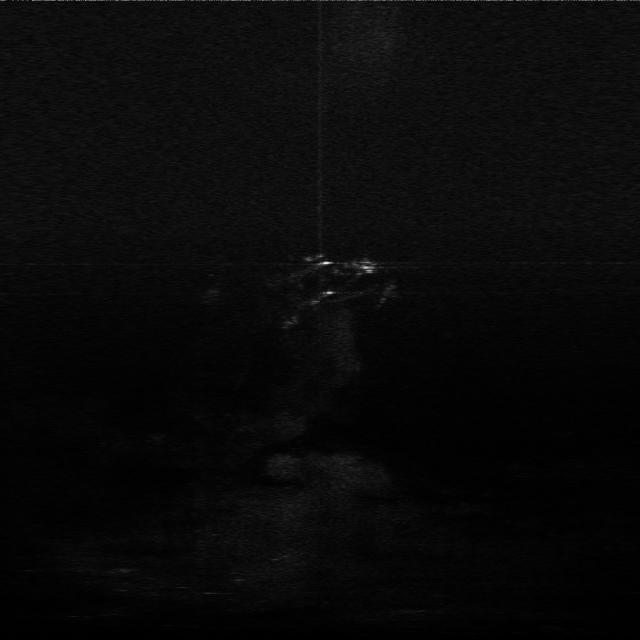rov: (353, 258, 381, 274)
